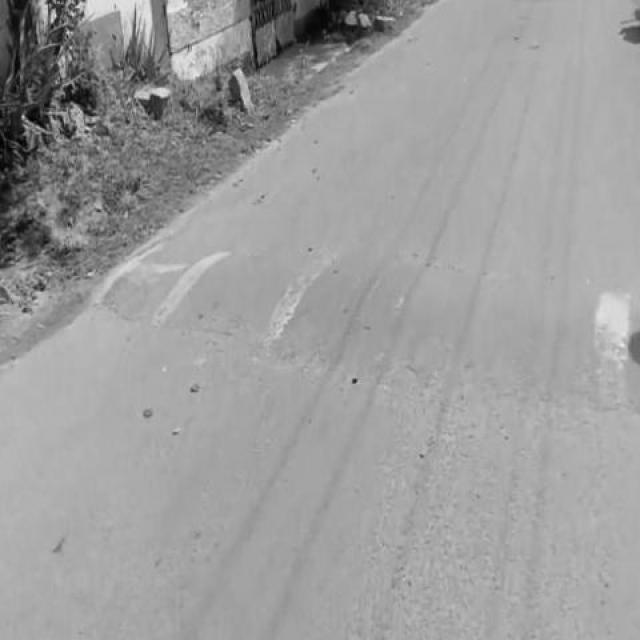Speed Bump: (92, 241, 639, 412)
